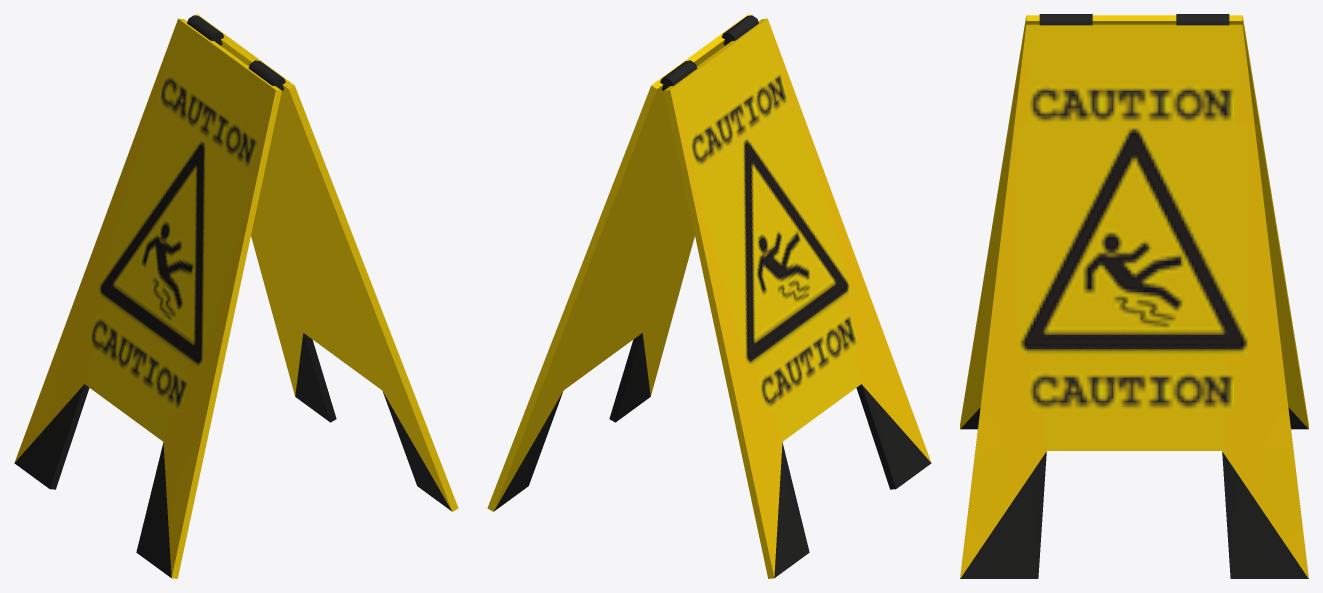
File: Obstacles(2).fbx
3 renders of one model, left to right at view 1: azimuth 30°, elevation 25°; view 2: azimuth 150°, elevation 25°; view 3: azimuth 270°, elevation 25°, orthographic. The views are drawn at different scales.
Visible parts, largest first — view 1: SlipperyFloor; view 2: SlipperyFloor; view 3: SlipperyFloor.
Part boxes in pixels (x1=…): SlipperyFloor: x1=14, y1=14, x2=458, y2=578; SlipperyFloor: x1=487, y1=14, x2=931, y2=578; SlipperyFloor: x1=960, y1=14, x2=1308, y2=578.
Size of what is drawn, in the model's own units: 59.26 by 87.09 by 56.24.
